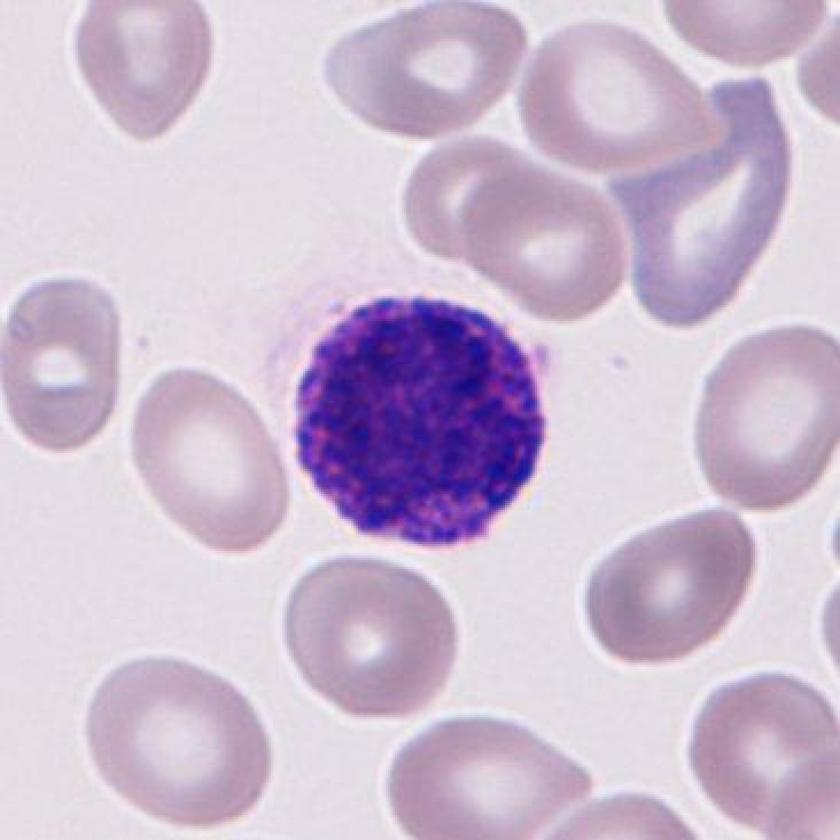basophil: (286, 286, 554, 557)
